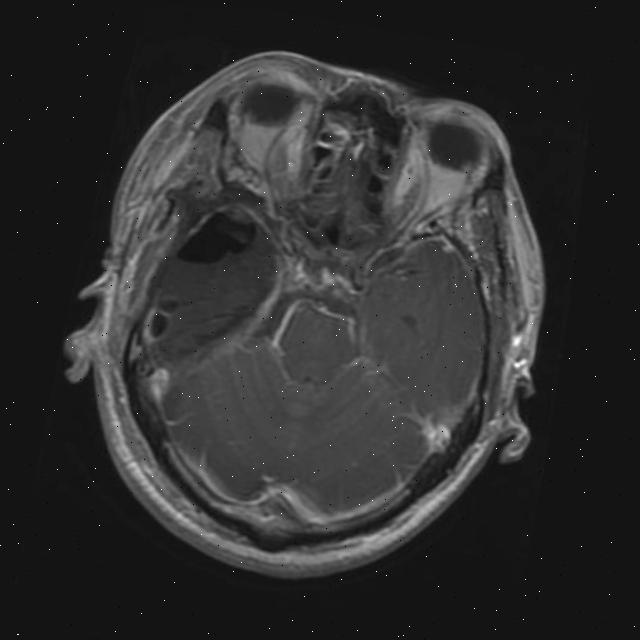Glioma: (136, 193, 291, 380)
